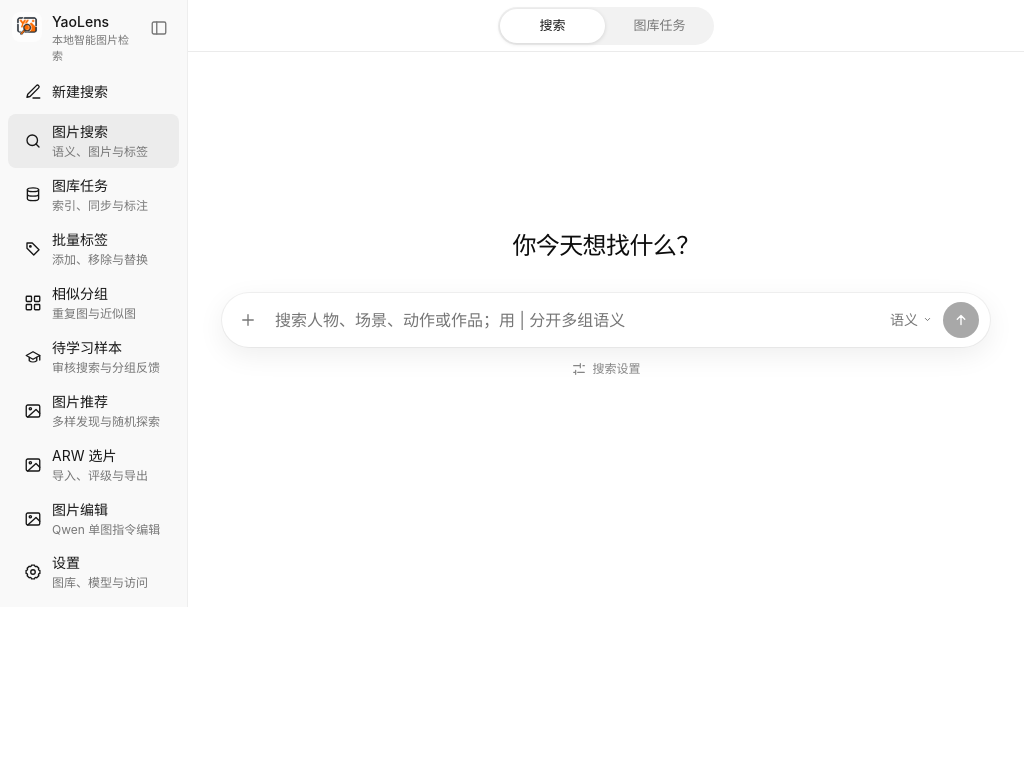
App page shell › keeps running, cancelled, and failed search states visible in the compact live region
Type "原神" into the search field with placeholder "搜索人物、场景、动作或作品；用 | 分开多组语义" at (574, 320), box [270,300,879,340]
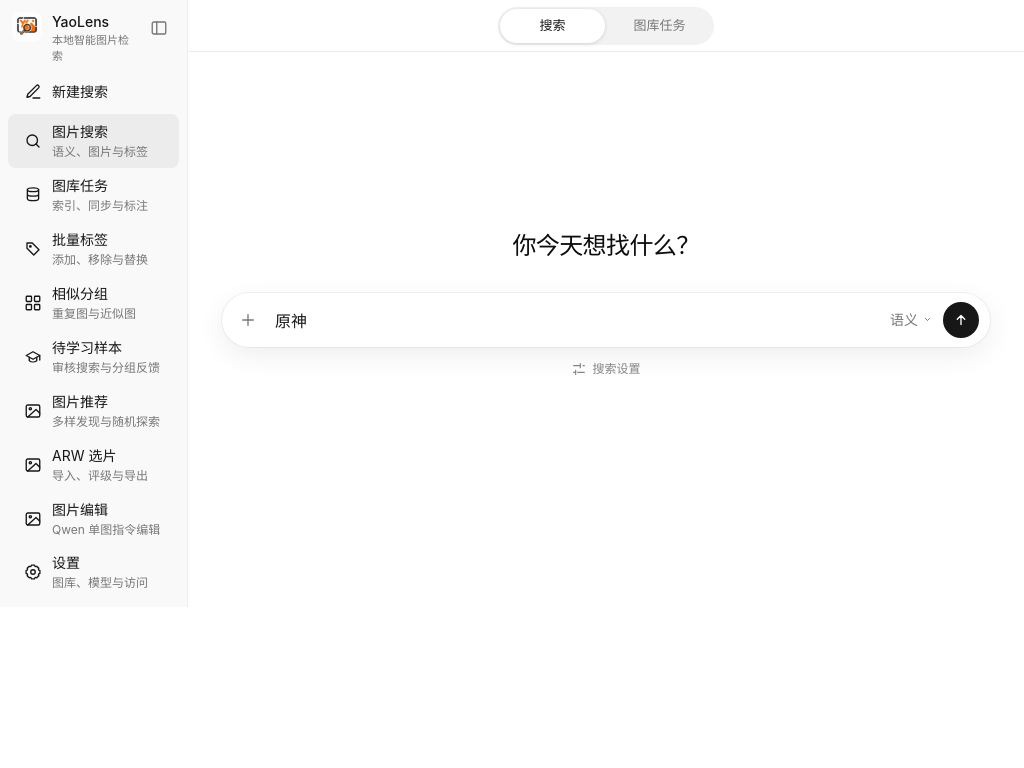
Click the button with test id "submit-search" at (961, 320), box [943,302,979,338]
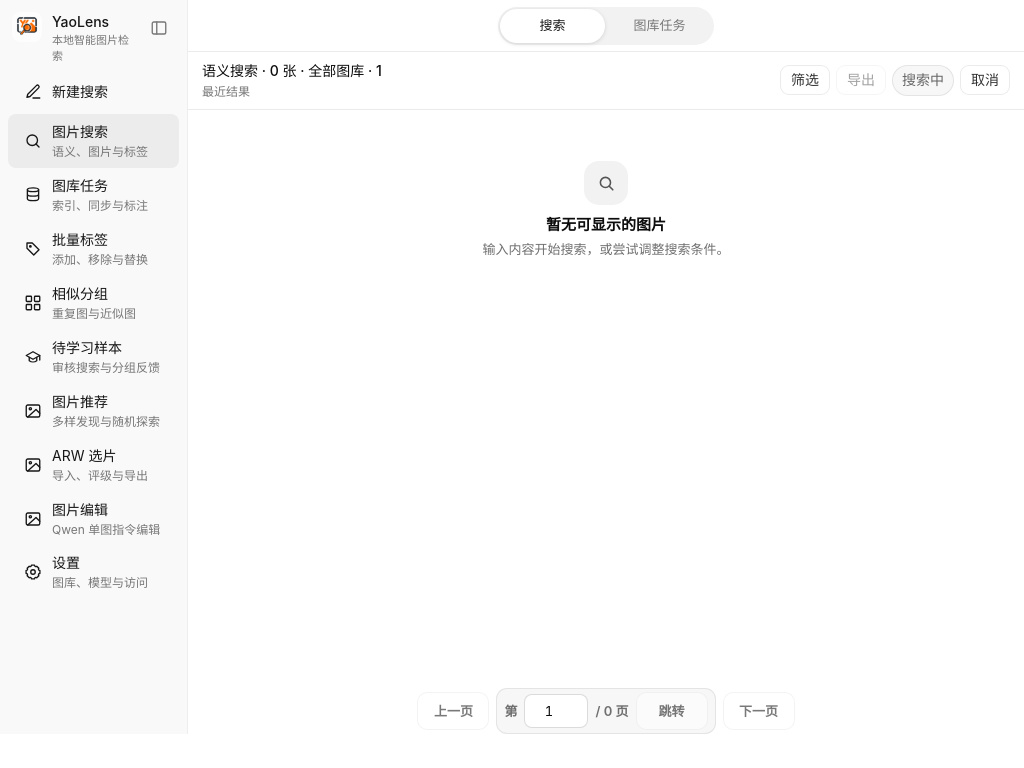
Expected: the message with class "status-pill" reads "搜索中", [902,71,944,88]
Click the button with test id "cancel-search" at (985, 80), box [960,66,1010,96]
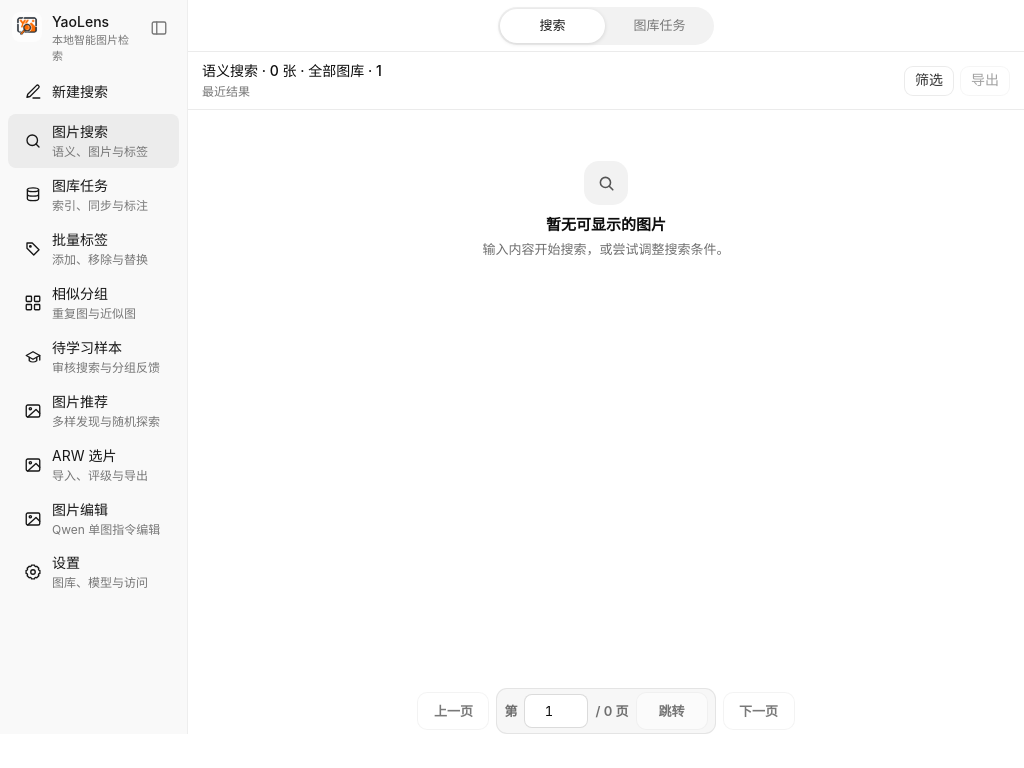
Click the button with class "new-search-button" at (94, 92), box [8,72,179,112]
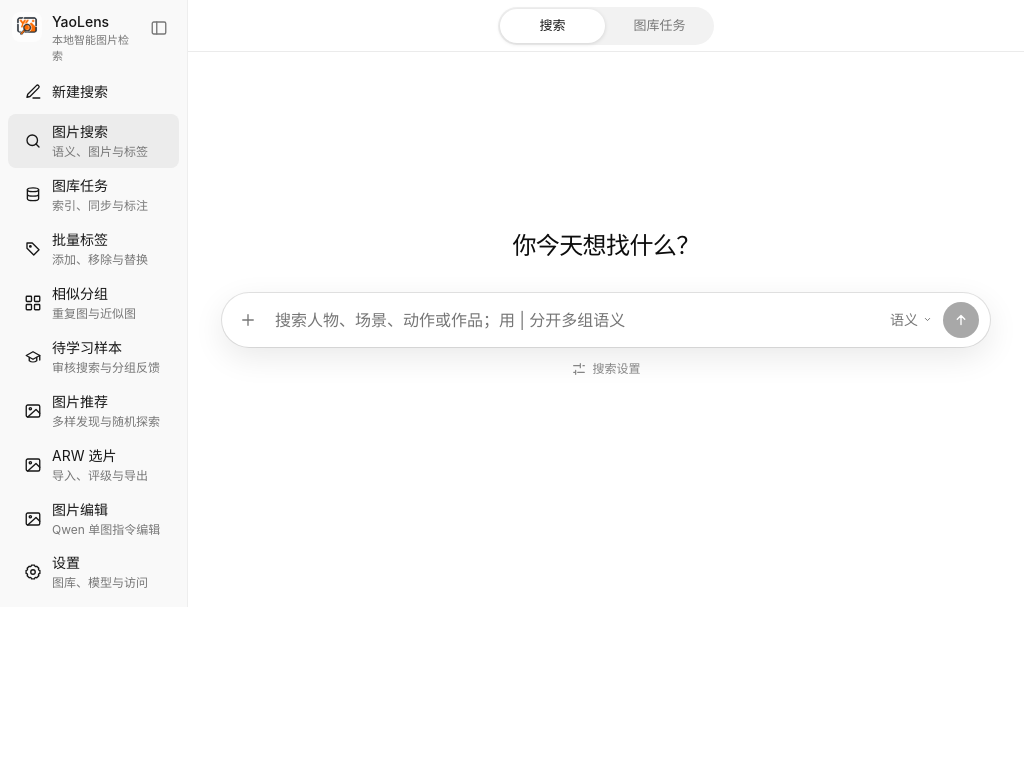
Type "原神" into the search field with placeholder "搜索人物、场景、动作或作品；用 | 分开多组语义" at (574, 320), box [270,300,879,340]
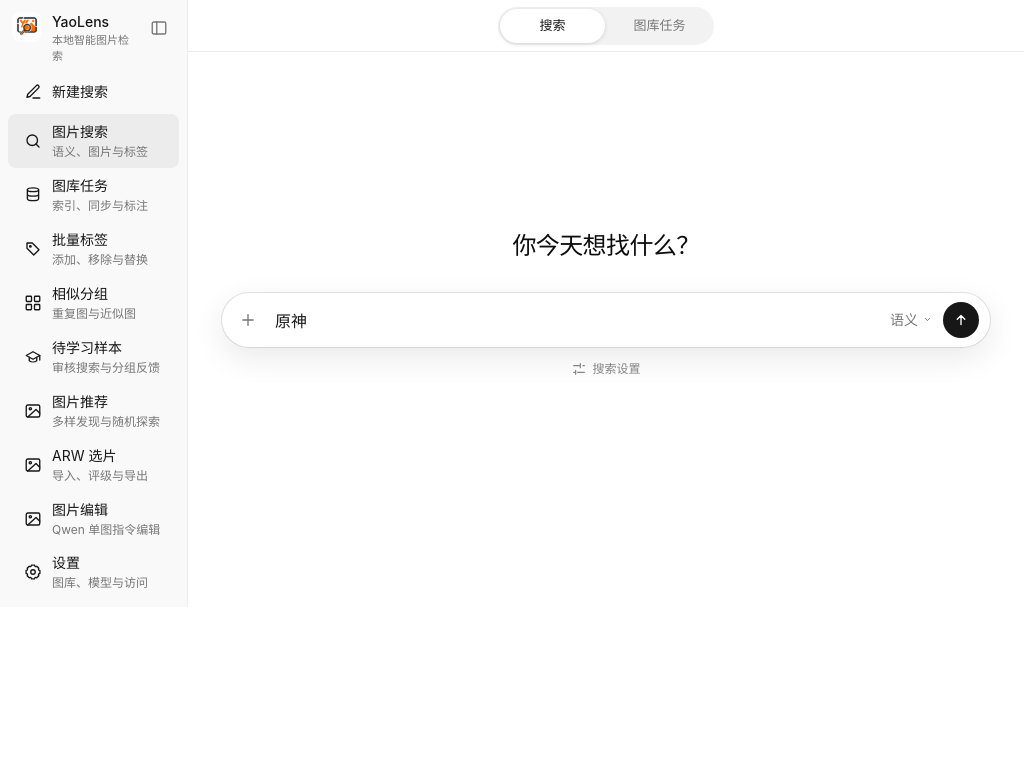
Click the button with test id "submit-search" at (961, 320), box [943,302,979,338]
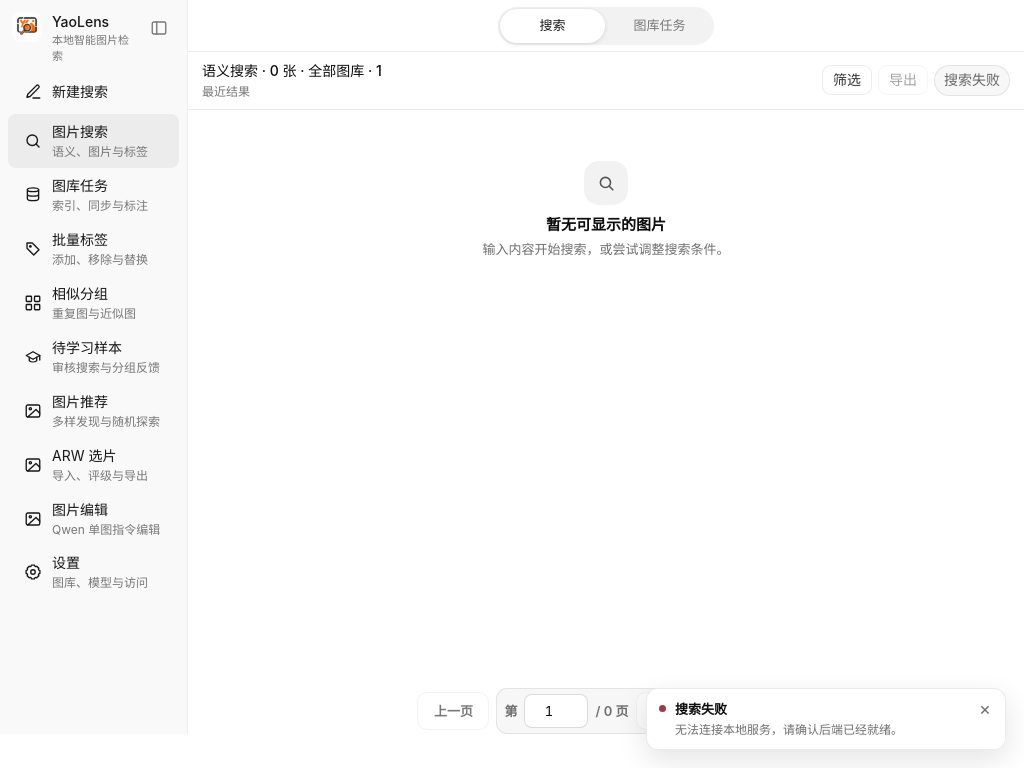
Expected: the message with class "status-pill" reads "搜索失败", [944,71,1000,88]
